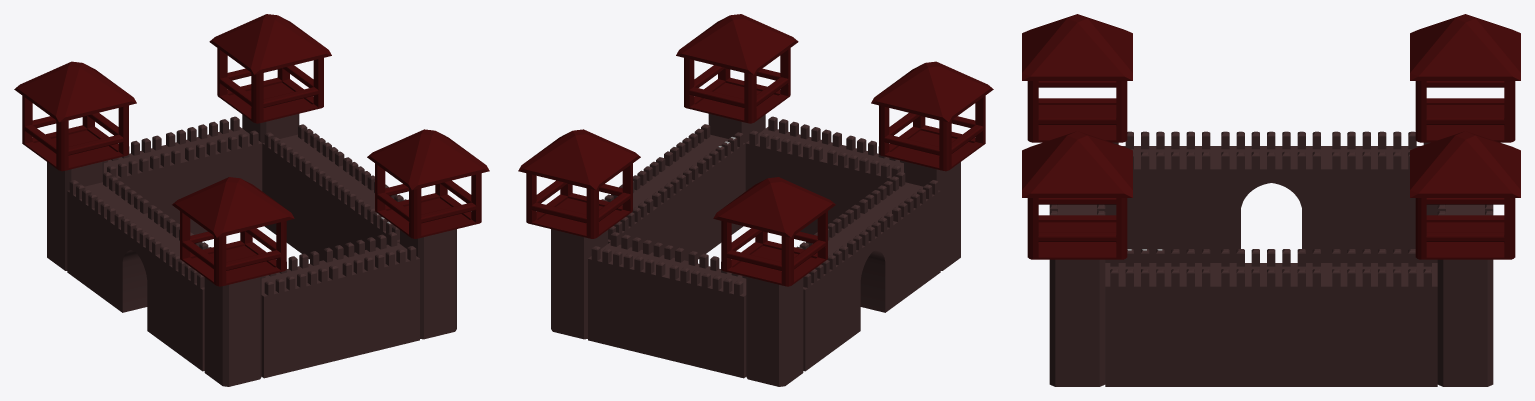
File: Fortress.DAE
The picture shows the model from 3 angles, left to right: view 1: azimuth 30°, elevation 25°; view 2: azimuth 150°, elevation 25°; view 3: azimuth 270°, elevation 25°; orthographic projection. The views are drawn at different scales.
Parts seen in each view (by area): view 1: Box001; view 2: Box001; view 3: Box001.
Part boxes in pixels (x1=…): Box001: x1=14, y1=14, x2=489, y2=386; Box001: x1=518, y1=14, x2=993, y2=386; Box001: x1=1022, y1=14, x2=1520, y2=386.
Size of the model in its own units: 70 by 90 by 47.74.
